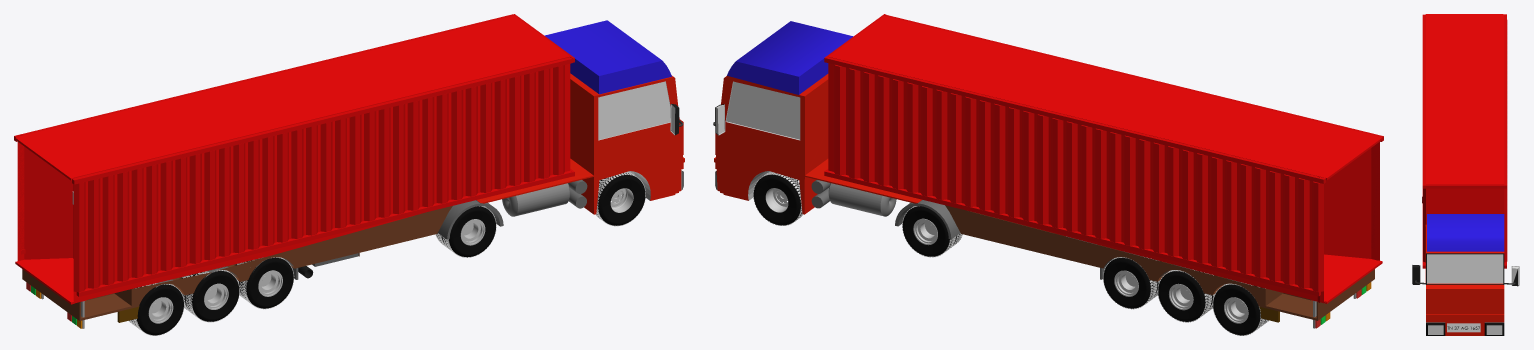
The model's file is truck ass.fbx.
3 renders of one model, left to right at view 1: azimuth 30°, elevation 25°; view 2: azimuth 150°, elevation 25°; view 3: azimuth 270°, elevation 25°, orthographic. The views are drawn at different scales.
Parts seen in each view (by area): view 1: Assem1 - STRIPS FOR TRUCK-1, Assem1 - truck-1 TRUCK-1.001, Assem1 - truck-1 TRUCK-1.004, Assem1 - truck-1 TRUCK-1.017, Assem1 - truck-1 TRUCK-1.006, Assem1 - truck-1 TRUCK-1.024, Assem1 - truck-1 TRUCK-1.005, Assem1 - truck-1 tyre-3.017, Assem1 - truck-1 tyre-3.012, Assem1 - truck-1 tyre-3.010, Assem1 - truck-1 tyre-3.014, Assem1 - truck-1 tyre-3 (+8 smaller); view 2: Assem1 - STRIPS FOR TRUCK-2, Assem1 - truck-1 TRUCK-1.001, Assem1 - truck-1 TRUCK-1.004, Assem1 - STRIPS FOR TRUCK-1, Assem1 - truck-1 TRUCK-1.017, Assem1 - truck-1 TRUCK-1.006, Assem1 - truck-1 TRUCK-1.025, Assem1 - truck-1 TRUCK-1.003, Assem1 - truck-1 tyre-3.016, Assem1 - truck-1 tyre-3.006, Assem1 - truck-1 tyre-3.004, Assem1 - truck-1 tyre-3.008 (+7 smaller); view 3: Assem1 - truck-1 TRUCK-1.001, Assem1 - truck-1 TRUCK-1.004, Assem1 - truck-1 TRUCK-1.006, Assem1 - truck-1 TRUCK-1.021, Assem1 - STRIPS FOR TRUCK-1, Assem1 - STRIPS FOR TRUCK-2, Assem1 - NUMBER PLATE-1, Assem1 - LIGHT-1, Assem1 - truck-1 TRUCK-1.022, Assem1 - LIGHT-1.001, MIRROR.004, MIRROR.
Part boxes in pixels (left/top/right/bottom): Assem1 - STRIPS FOR TRUCK-1: left=14, top=14, right=574, bottom=296; Assem1 - truck-1 TRUCK-1.001: left=17, top=15, right=570, bottom=303; Assem1 - truck-1 TRUCK-1.004: left=477, top=73, right=684, bottom=214; Assem1 - truck-1 TRUCK-1.017: left=22, top=206, right=452, bottom=320; Assem1 - truck-1 TRUCK-1.006: left=544, top=20, right=671, bottom=94; Assem1 - truck-1 TRUCK-1.024: left=20, top=135, right=73, bottom=259; Assem1 - truck-1 TRUCK-1.005: left=598, top=81, right=670, bottom=140; Assem1 - truck-1 tyre-3.017: left=597, top=173, right=645, bottom=225; Assem1 - truck-1 tyre-3.012: left=185, top=270, right=239, bottom=321; Assem1 - truck-1 tyre-3.010: left=239, top=257, right=293, bottom=308; Assem1 - truck-1 tyre-3.014: left=132, top=284, right=183, bottom=335; Assem1 - truck-1 tyre-3: left=443, top=206, right=495, bottom=257; Assem1 - STRIPS FOR TRUCK-2: left=833, top=64, right=1323, bottom=291; Assem1 - truck-1 TRUCK-1.001: left=828, top=16, right=1379, bottom=303; Assem1 - truck-1 TRUCK-1.004: left=714, top=74, right=921, bottom=214; Assem1 - STRIPS FOR TRUCK-1: left=824, top=14, right=1383, bottom=296; Assem1 - truck-1 TRUCK-1.017: left=945, top=205, right=1374, bottom=320; Assem1 - truck-1 TRUCK-1.006: left=727, top=21, right=853, bottom=94; Assem1 - truck-1 TRUCK-1.025: left=1324, top=137, right=1382, bottom=303; Assem1 - truck-1 TRUCK-1.003: left=725, top=81, right=800, bottom=140; Assem1 - truck-1 tyre-3.016: left=753, top=173, right=801, bottom=225; Assem1 - truck-1 tyre-3.006: left=1158, top=271, right=1211, bottom=321; Assem1 - truck-1 tyre-3.004: left=1103, top=257, right=1157, bottom=308; Assem1 - truck-1 tyre-3.008: left=1213, top=284, right=1262, bottom=335; Assem1 - truck-1 TRUCK-1.001: left=1426, top=14, right=1504, bottom=224; Assem1 - truck-1 TRUCK-1.004: left=1425, top=224, right=1504, bottom=335; Assem1 - truck-1 TRUCK-1.006: left=1427, top=214, right=1504, bottom=251; Assem1 - truck-1 TRUCK-1.021: left=1427, top=254, right=1503, bottom=283; Assem1 - STRIPS FOR TRUCK-1: left=1422, top=14, right=1506, bottom=268; Assem1 - STRIPS FOR TRUCK-2: left=1504, top=20, right=1507, bottom=262; Assem1 - NUMBER PLATE-1: left=1447, top=323, right=1480, bottom=332; Assem1 - LIGHT-1: left=1428, top=325, right=1502, bottom=334; Assem1 - truck-1 TRUCK-1.022: left=1426, top=253, right=1504, bottom=284; Assem1 - LIGHT-1.001: left=1426, top=322, right=1504, bottom=335; MIRROR.004: left=1412, top=265, right=1518, bottom=286; MIRROR: left=1511, top=266, right=1519, bottom=285.
Size of the model in its own units: 8.16 by 1.76 by 2.32.
